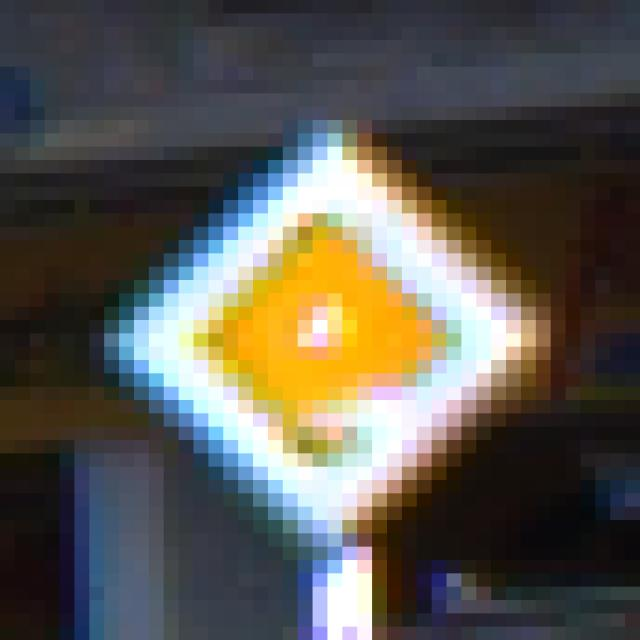Main Road: (76, 68, 567, 574)
